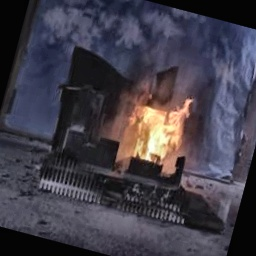fire: (116, 79, 205, 176)
